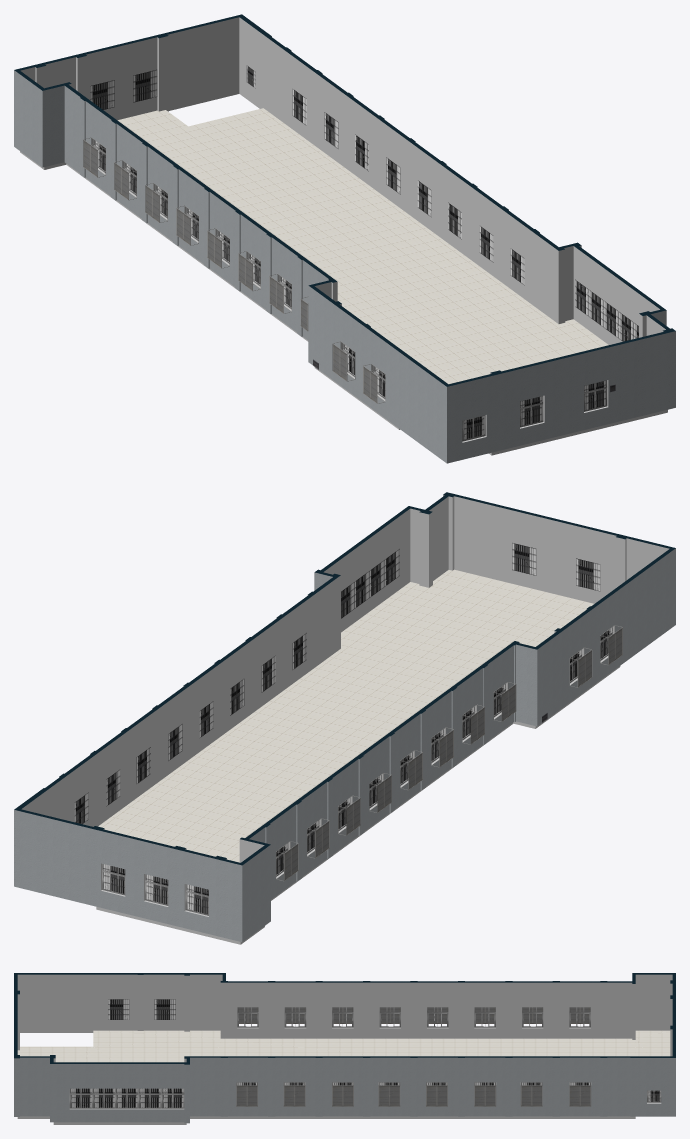
The model's file is hkjls_hkjls_f04_out_T005.obj.
The picture shows the model from 3 angles, top to bottom: view 1: azimuth 30°, elevation 25°; view 2: azimuth 150°, elevation 25°; view 3: azimuth 270°, elevation 25°; orthographic projection. The views are drawn at different scales.
Parts seen in each view (by area): view 1: hkjls_hkjls_f04_out_002_H005, hkjls_hkjls_f04_out_005_H005, hkjls_hkjls_f04_out_001_H005, hkjls_hkjls_f04_out_ch_001_T015, hkjls_hkjls_f04_out_006_H005, hkjls_hkjls_f04_out_ch_003_T015, hkjls_hkjls_f04_out_ch_002_T015, hkjls_hkjls_f04_out_007_H005; view 2: hkjls_hkjls_f04_out_002_H005, hkjls_hkjls_f04_out_005_H005, hkjls_hkjls_f04_out_001_H005, hkjls_hkjls_f04_out_ch_001_T015, hkjls_hkjls_f04_out_006_H005, hkjls_hkjls_f04_out_ch_003_T015, hkjls_hkjls_f04_out_ch_002_T015, hkjls_hkjls_f04_out_007_H005; view 3: hkjls_hkjls_f04_out_001_H005, hkjls_hkjls_f04_out_005_H005, hkjls_hkjls_f04_out_002_H005, hkjls_hkjls_f04_out_ch_003_T015, hkjls_hkjls_f04_out_ch_001_T015, hkjls_hkjls_f04_out_006_H005, hkjls_hkjls_f04_out_ch_002_T015, hkjls_hkjls_f04_out_007_H005.
Boxes of the visible parts, bbox=[...] form: hkjls_hkjls_f04_out_002_H005: bbox=[117, 108, 608, 384]; hkjls_hkjls_f04_out_005_H005: bbox=[14, 36, 675, 463]; hkjls_hkjls_f04_out_001_H005: bbox=[20, 17, 667, 455]; hkjls_hkjls_f04_out_ch_001_T015: bbox=[90, 65, 638, 439]; hkjls_hkjls_f04_out_006_H005: bbox=[14, 14, 675, 386]; hkjls_hkjls_f04_out_ch_003_T015: bbox=[83, 140, 377, 402]; hkjls_hkjls_f04_out_ch_002_T015: bbox=[93, 140, 607, 441]; hkjls_hkjls_f04_out_007_H005: bbox=[83, 137, 385, 403]; hkjls_hkjls_f04_out_002_H005: bbox=[98, 569, 593, 862]; hkjls_hkjls_f04_out_005_H005: bbox=[14, 495, 675, 942]; hkjls_hkjls_f04_out_001_H005: bbox=[21, 496, 669, 944]; hkjls_hkjls_f04_out_ch_001_T015: bbox=[74, 543, 610, 914]; hkjls_hkjls_f04_out_006_H005: bbox=[14, 492, 675, 865]; hkjls_hkjls_f04_out_ch_003_T015: bbox=[284, 628, 622, 880]; hkjls_hkjls_f04_out_ch_002_T015: bbox=[102, 627, 612, 915]; hkjls_hkjls_f04_out_007_H005: bbox=[276, 625, 622, 881]; hkjls_hkjls_f04_out_001_H005: bbox=[17, 974, 672, 1124]; hkjls_hkjls_f04_out_005_H005: bbox=[14, 1057, 675, 1123]; hkjls_hkjls_f04_out_002_H005: bbox=[17, 1030, 670, 1062]; hkjls_hkjls_f04_out_ch_003_T015: bbox=[236, 1007, 590, 1106]; hkjls_hkjls_f04_out_ch_001_T015: bbox=[71, 999, 660, 1107]; hkjls_hkjls_f04_out_006_H005: bbox=[14, 973, 675, 1064]; hkjls_hkjls_f04_out_ch_002_T015: bbox=[69, 1007, 661, 1108]; hkjls_hkjls_f04_out_007_H005: bbox=[236, 1024, 591, 1106].
Size of the model in its own units: 1561 by 480 by 4605.
Materials: 10 (10 with a texture image).
